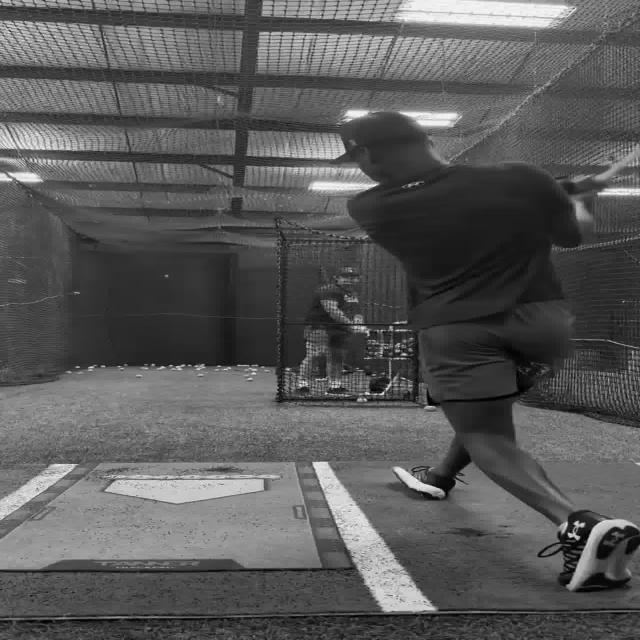baseball: (423, 405, 437, 411), (356, 397, 367, 403), (245, 378, 253, 382)
shoe: (553, 509, 639, 592), (391, 465, 457, 500), (325, 386, 353, 397), (291, 386, 311, 397), (294, 380, 310, 390)
